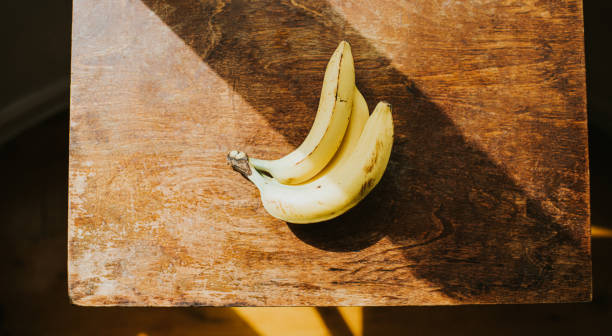fresh_banana: (228, 101, 394, 224), (228, 41, 355, 185)
